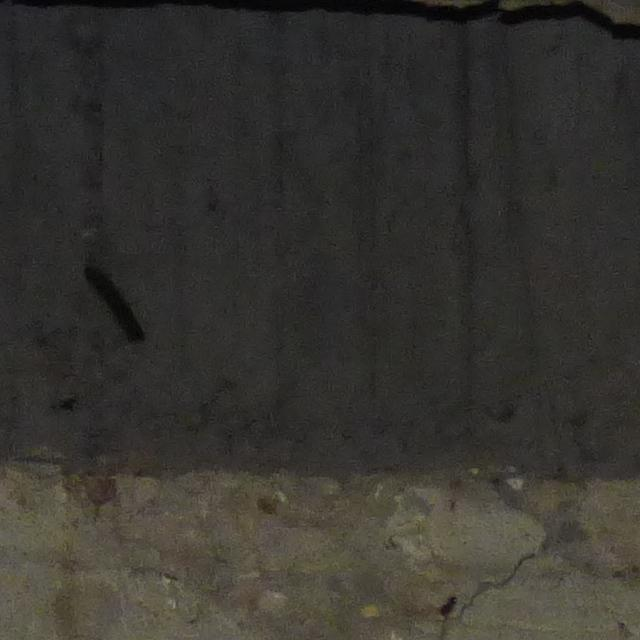Rust: (83, 262, 148, 343)
